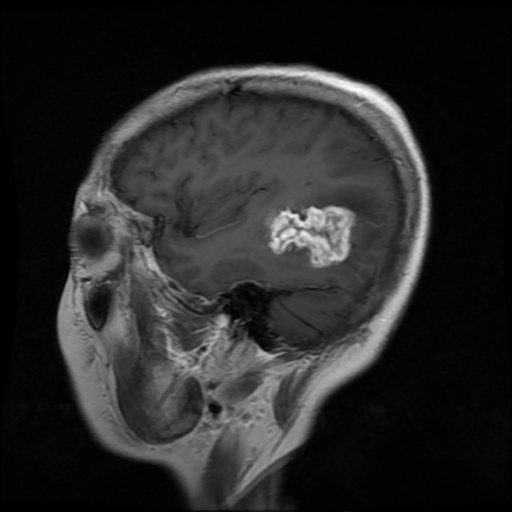glioma: (264, 204, 356, 268)
